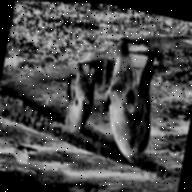boar: (95, 37, 166, 168), (57, 58, 101, 139)
